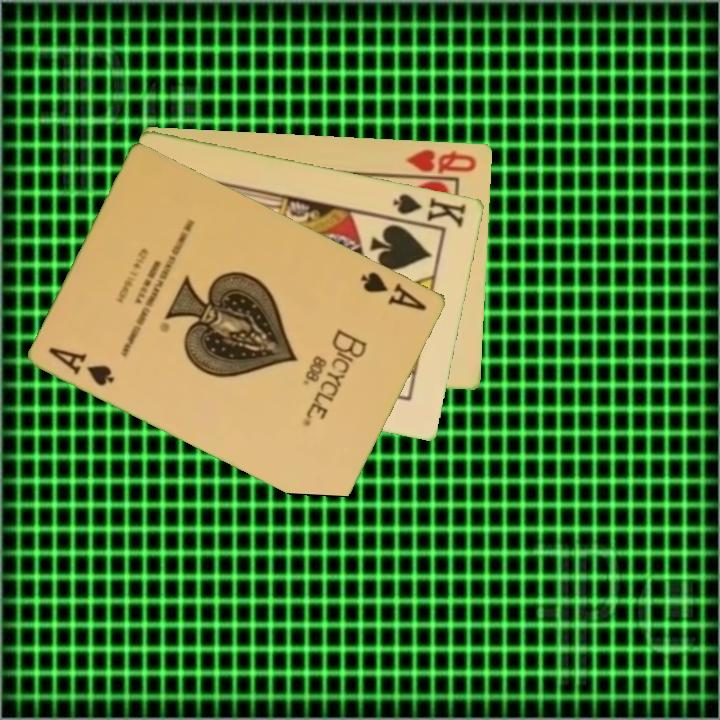As: (357, 267, 430, 314), (46, 343, 118, 389)
Ks: (386, 189, 470, 230)
Qh: (402, 145, 480, 176)
